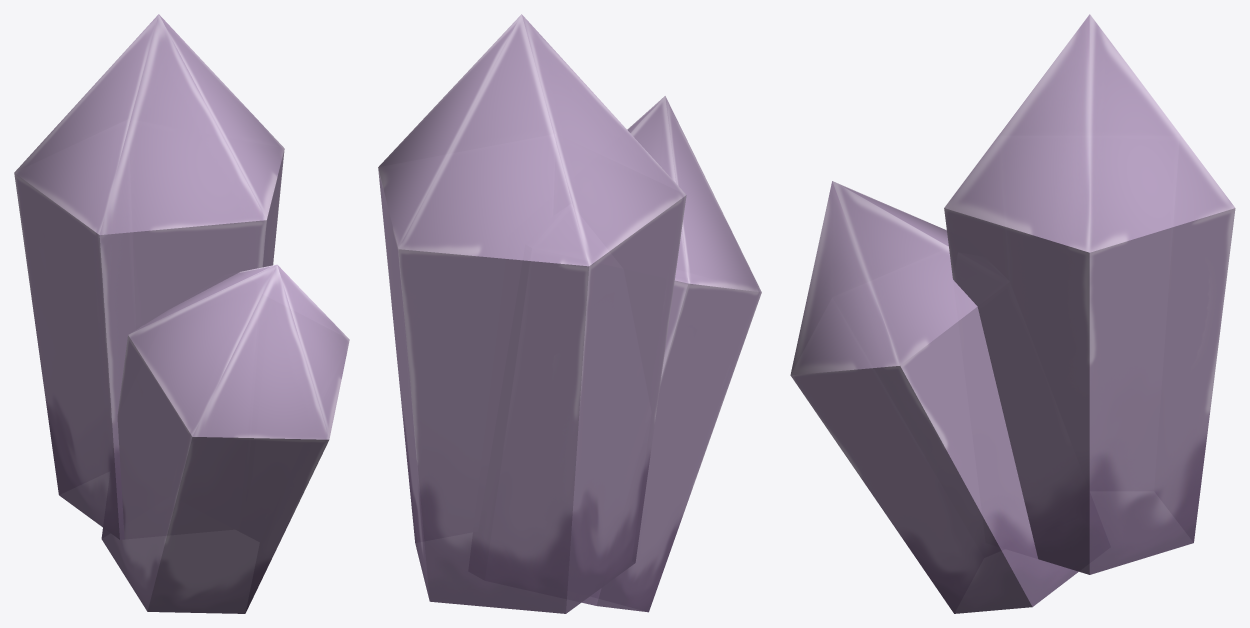
Rendered from crystal_large.fbx.
3 views of the same model, side by side, from view 1: azimuth 30°, elevation 25°; view 2: azimuth 150°, elevation 25°; view 3: azimuth 270°, elevation 25° (orthographic). The views are drawn at different scales.
Parts seen in each view (by area): view 1: crystal_large; view 2: crystal_large; view 3: crystal_large.
Part boxes in pixels (x1=…): crystal_large: x1=14, y1=14, x2=349, y2=613; crystal_large: x1=378, y1=14, x2=761, y2=613; crystal_large: x1=790, y1=14, x2=1235, y2=613.
Size of the model in its own units: 2.53 by 5.93 by 4.07.
Materials: 1 (1 with a texture image).
